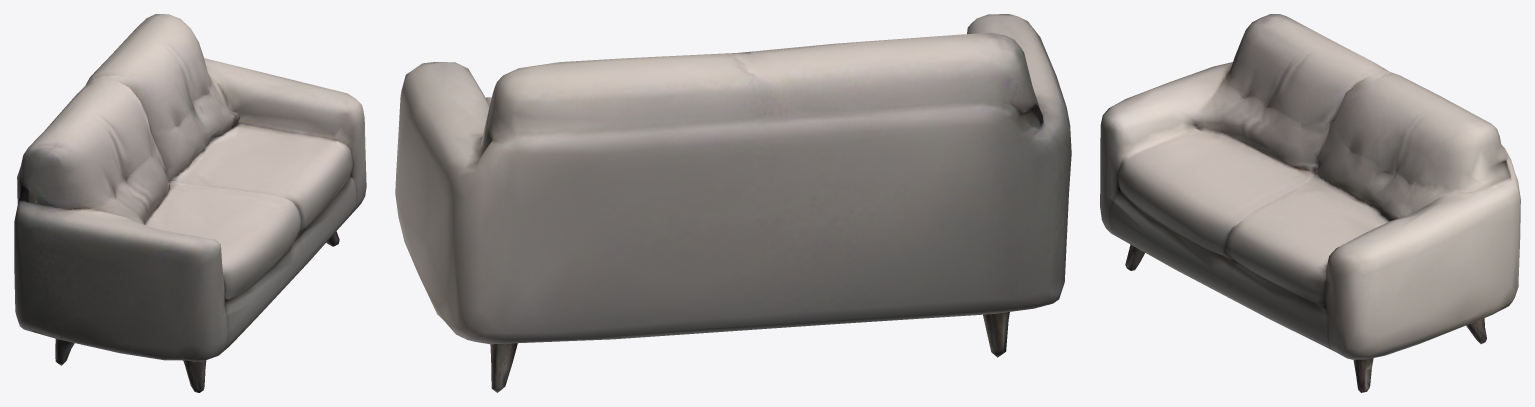
The model's file is sofa.glb.
3 renders of one model, left to right at view 1: azimuth 30°, elevation 25°; view 2: azimuth 150°, elevation 25°; view 3: azimuth 270°, elevation 25°, orthographic. The views are drawn at different scales.
Parts seen in each view (by area): view 1: world; view 2: world; view 3: world.
Part boxes in pixels (box(x1,y1,x2,y2)): world: box(14, 14, 366, 392); world: box(395, 14, 1071, 392); world: box(1100, 14, 1520, 392).
Size of the model in its own units: 1.84 by 0.9713 by 1.7.
1 material, 1 textured.
